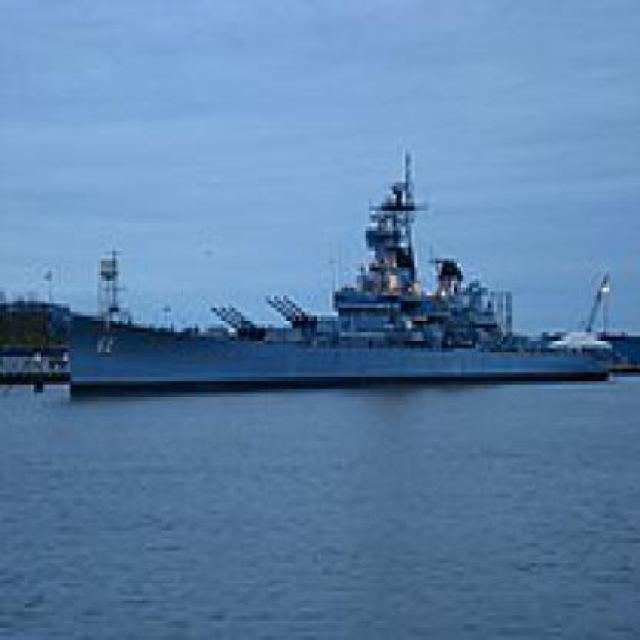warship2: (56, 155, 623, 410)
